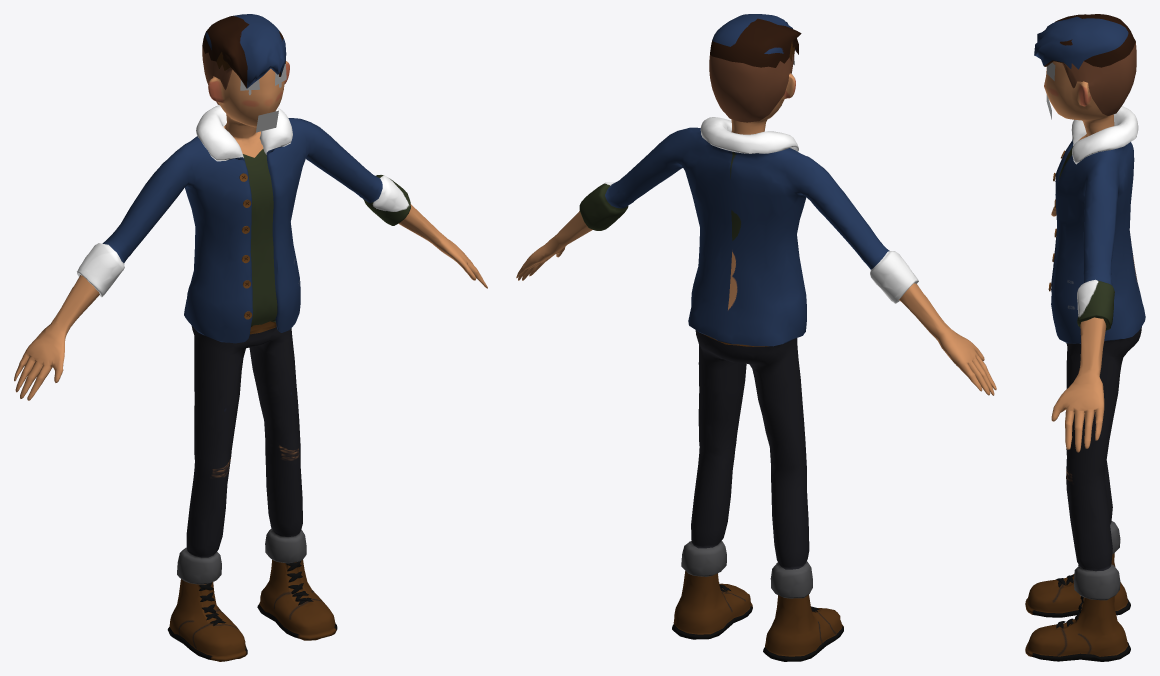
Rendered from jace4.fbx.
3 renders of one model, left to right at view 1: azimuth 30°, elevation 25°; view 2: azimuth 150°, elevation 25°; view 3: azimuth 270°, elevation 25°, orthographic.
Visible parts, largest first — view 1: polySurface29; view 2: polySurface29; view 3: polySurface29.
Boxes of the visible parts, bbox=[...] form: polySurface29: bbox=[14, 14, 487, 661]; polySurface29: bbox=[516, 14, 996, 661]; polySurface29: bbox=[1025, 14, 1145, 661].
Bounding box in the file's own units: 136 × 169 × 30.24.
